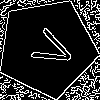V: (22, 22, 78, 73)
